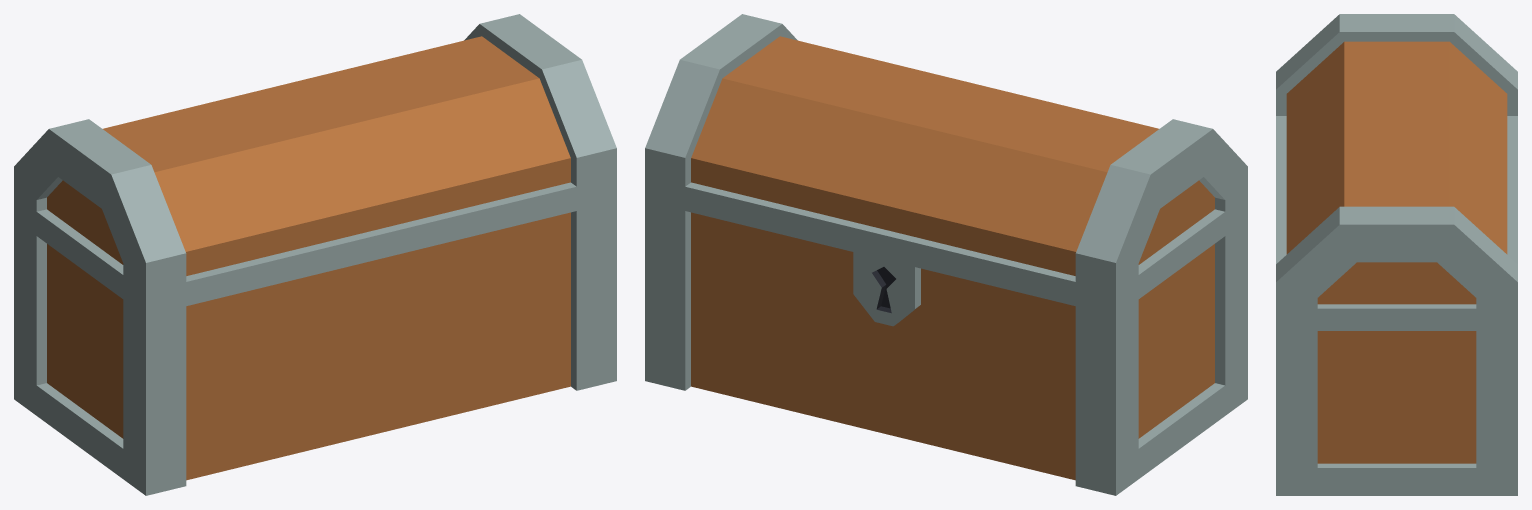
File: FinalChest.obj
3 renders of one model, left to right at view 1: azimuth 30°, elevation 25°; view 2: azimuth 150°, elevation 25°; view 3: azimuth 270°, elevation 25°, orthographic. The views are drawn at different scales.
Visible parts, largest first — view 1: Chest1; view 2: Chest1; view 3: Chest1.
Part boxes in pixels (box(x1,y1,x2,y2)): Chest1: box(14, 14, 616, 495); Chest1: box(645, 14, 1247, 495); Chest1: box(1276, 14, 1517, 495).
Bounding box in the file's own units: 3.26 × 1.96 × 1.58.
1 material, 1 textured.
